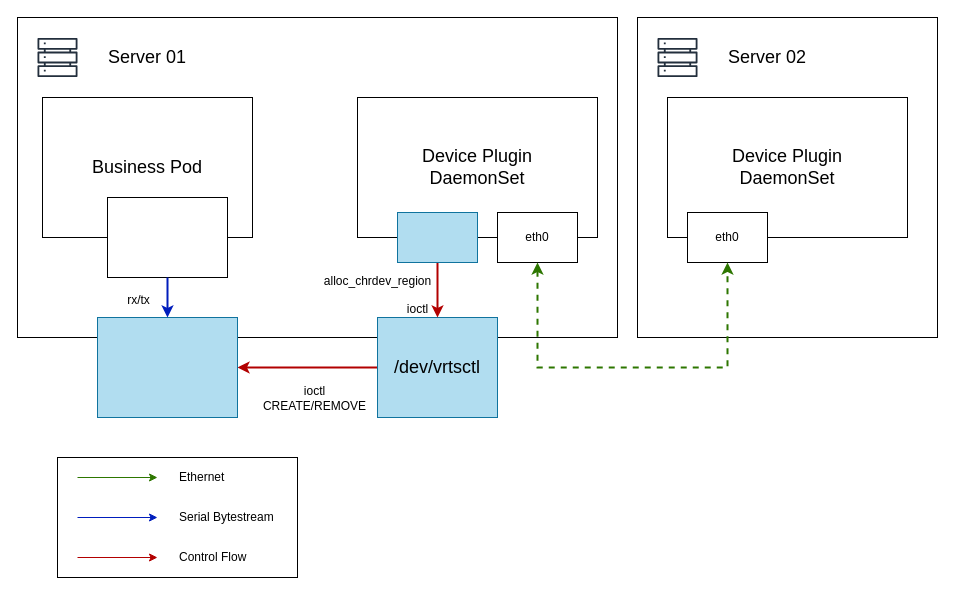
Image size: 955x595. Some labels were removed from this diagram. The centre of each missing label's shape, as x and y in pixels:
"Serial API / minicom" belongs at [167,237].
"ttyVCOM0" belongs at [167,367].
"virt_serial.ko" belongs at [437,237].
